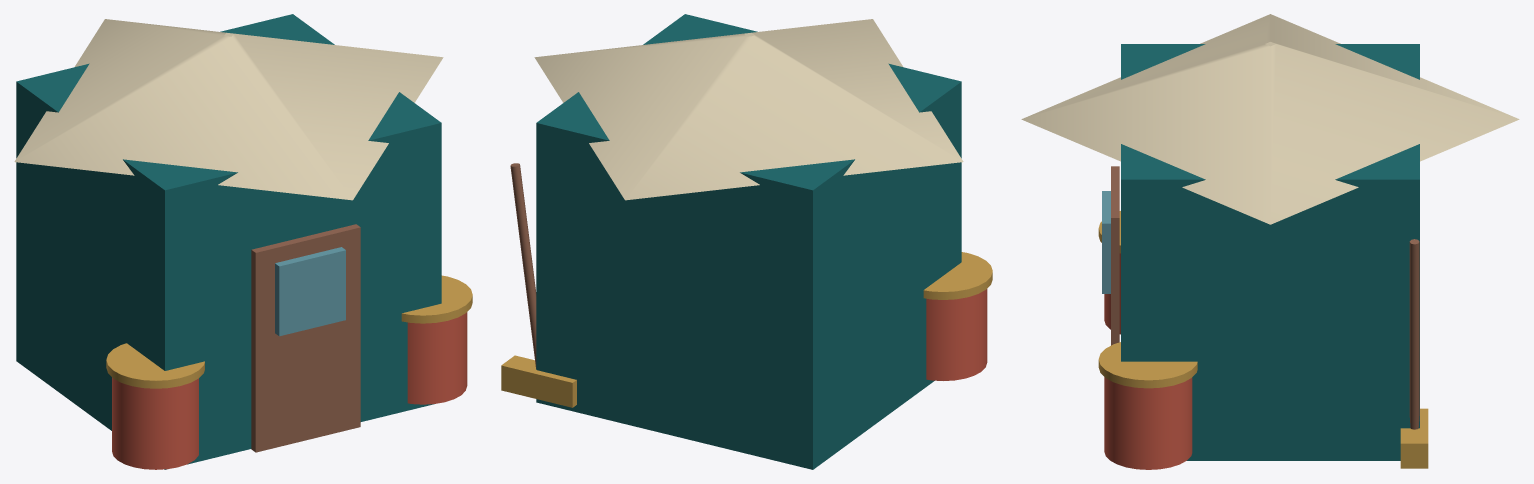
Rendered from staff_janitor.glb.
3 renders of one model, left to right at view 1: azimuth 30°, elevation 25°; view 2: azimuth 150°, elevation 25°; view 3: azimuth 270°, elevation 25°, orthographic.
Parts seen in each view (by area): view 1: staff_janitor; view 2: staff_janitor; view 3: staff_janitor.
Boxes of the visible parts, left/top/right/bottom form: staff_janitor: left=14, top=14, right=472, bottom=469; staff_janitor: left=501, top=14, right=992, bottom=469; staff_janitor: left=1021, top=14, right=1519, bottom=469.
Size of the model in its own units: 4.5 by 3.47 by 4.5.
